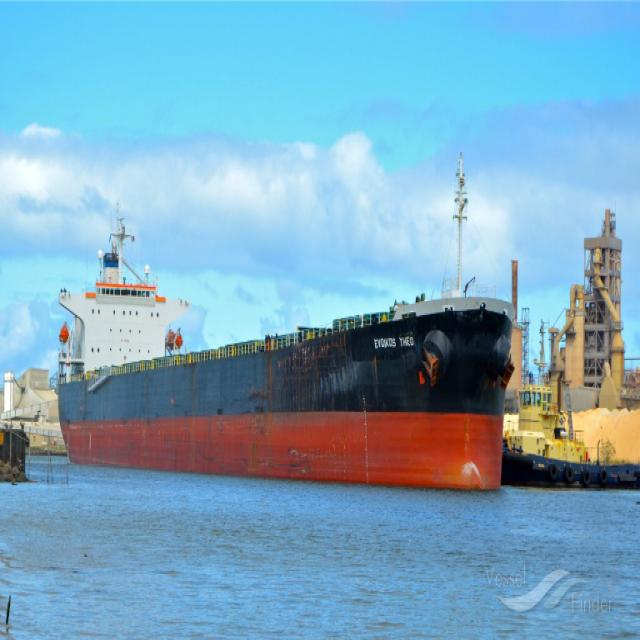OCR: (370, 327, 418, 355)
